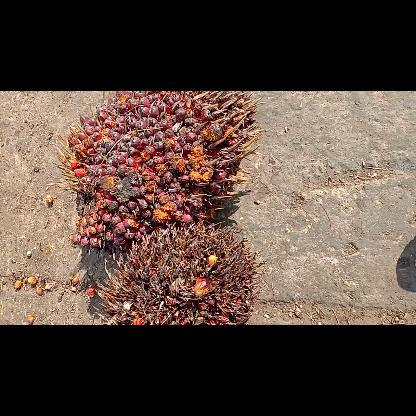TBS masak: (56, 90, 258, 258)
Terlalu masak: (95, 220, 264, 324)
